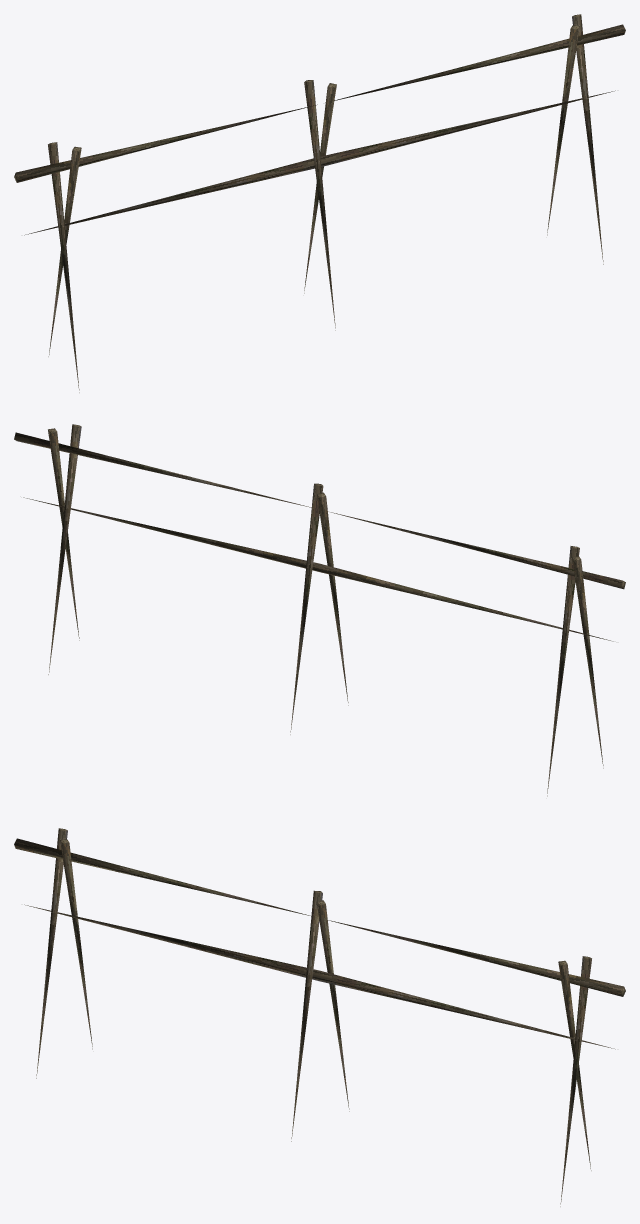
File: thm_dant_fence_8m_l4.fbx
The picture shows the model from 3 angles, top to bottom: view 1: azimuth 30°, elevation 25°; view 2: azimuth 150°, elevation 25°; view 3: azimuth 330°, elevation 25°; orthographic projection.
Parts seen in each view (by area): view 1: mesh_node; view 2: mesh_node; view 3: mesh_node.
Boxes of the visible parts, x1=… form: mesh_node: x1=14, y1=14, x2=625, y2=392; mesh_node: x1=14, y1=424, x2=625, y2=796; mesh_node: x1=14, y1=828, x2=625, y2=1206.
Bounding box in the file's own units: 7.96 × 2.93 × 1.03.
